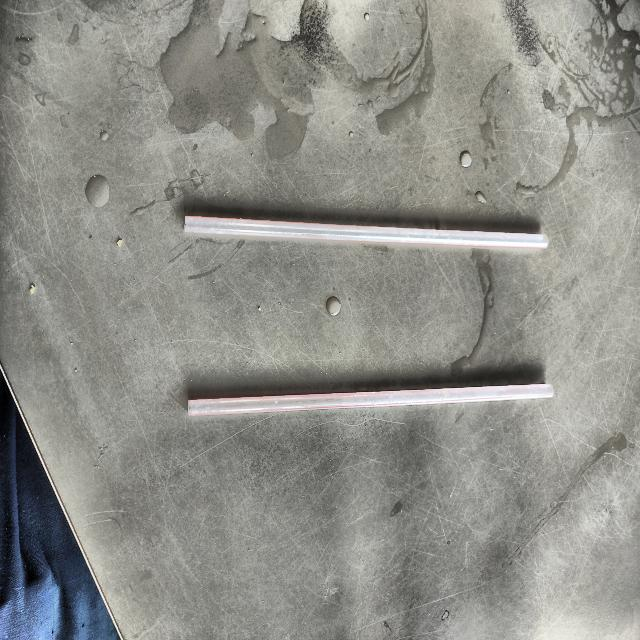plastic straw: (189, 383, 554, 415), (185, 217, 549, 248)
